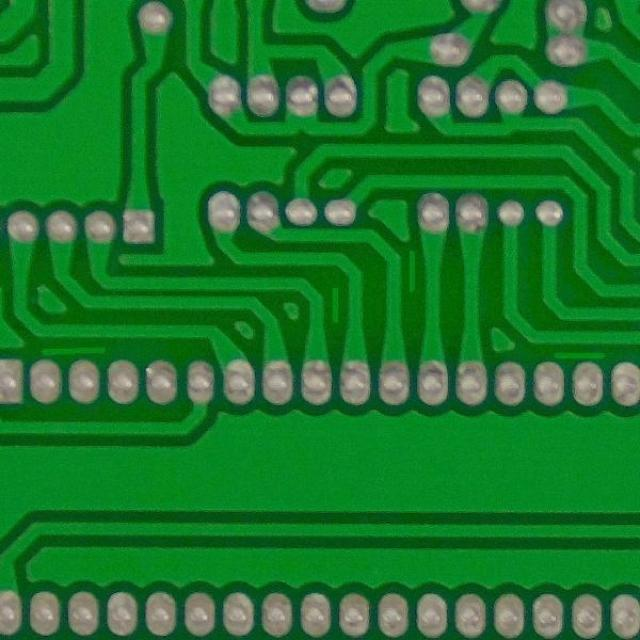Spurious_Cooper: (35, 342, 112, 360), (326, 282, 346, 328), (404, 246, 422, 296), (549, 348, 610, 362)
